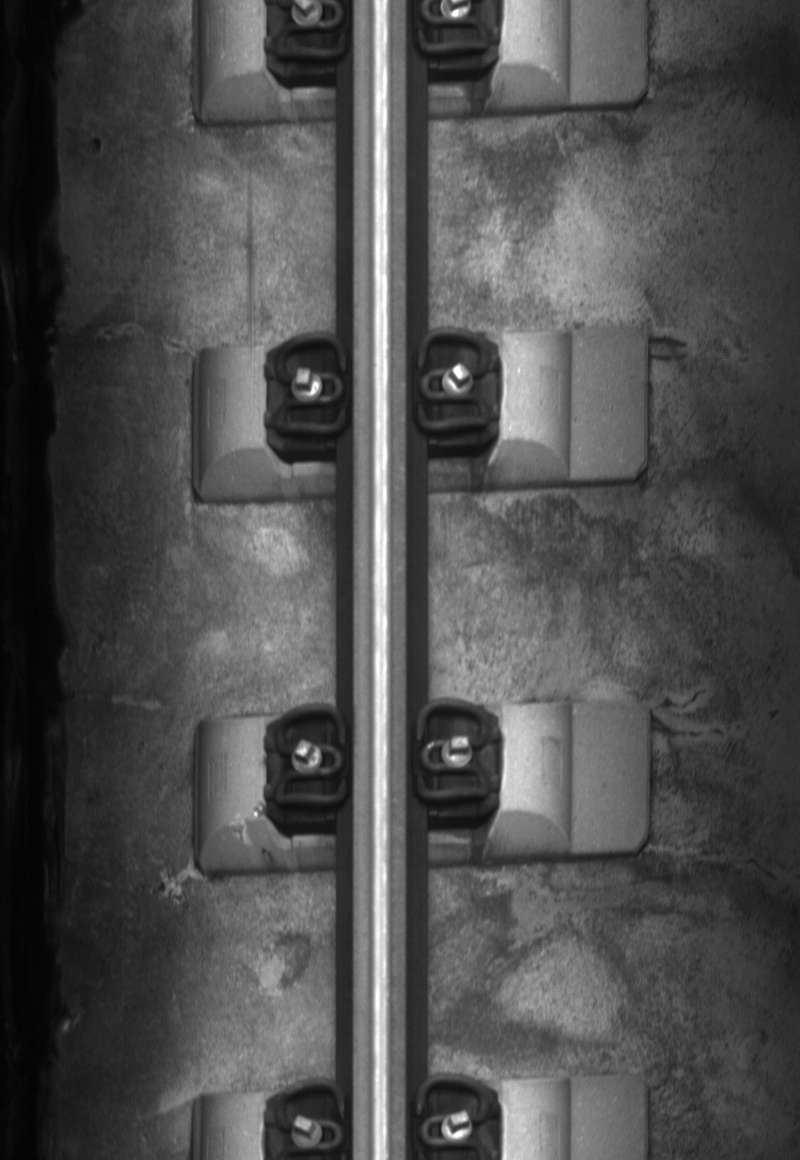l_faster: (269, 328, 352, 436), (271, 699, 351, 811)
r_faster: (411, 326, 495, 437), (413, 695, 493, 806)
